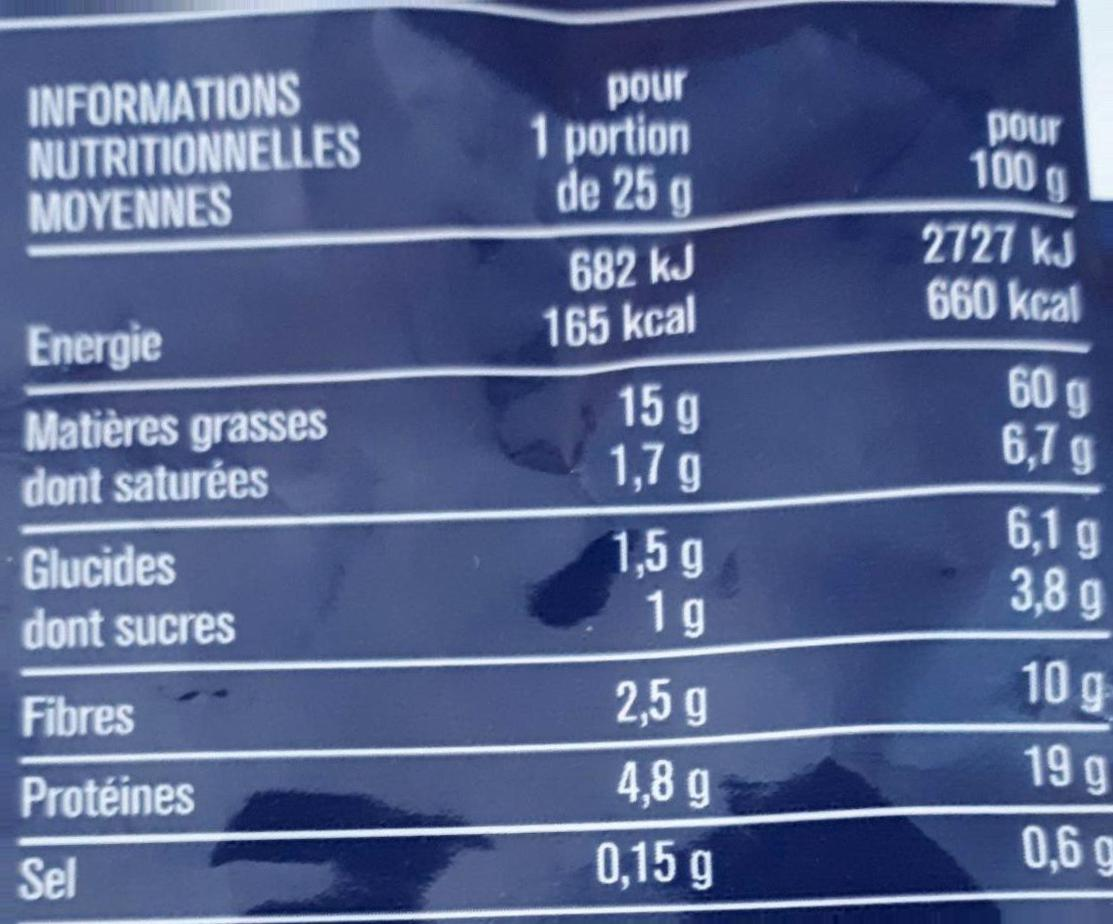column: (25, 73, 363, 899), (530, 69, 714, 892), (925, 109, 1113, 886)
line: (31, 70, 1067, 224), (30, 230, 1073, 364), (28, 371, 1083, 502), (22, 659, 1107, 741), (26, 749, 1110, 824), (30, 578, 1098, 651), (18, 832, 1108, 901), (30, 509, 1095, 574)
table: (5, 11, 1113, 912)
